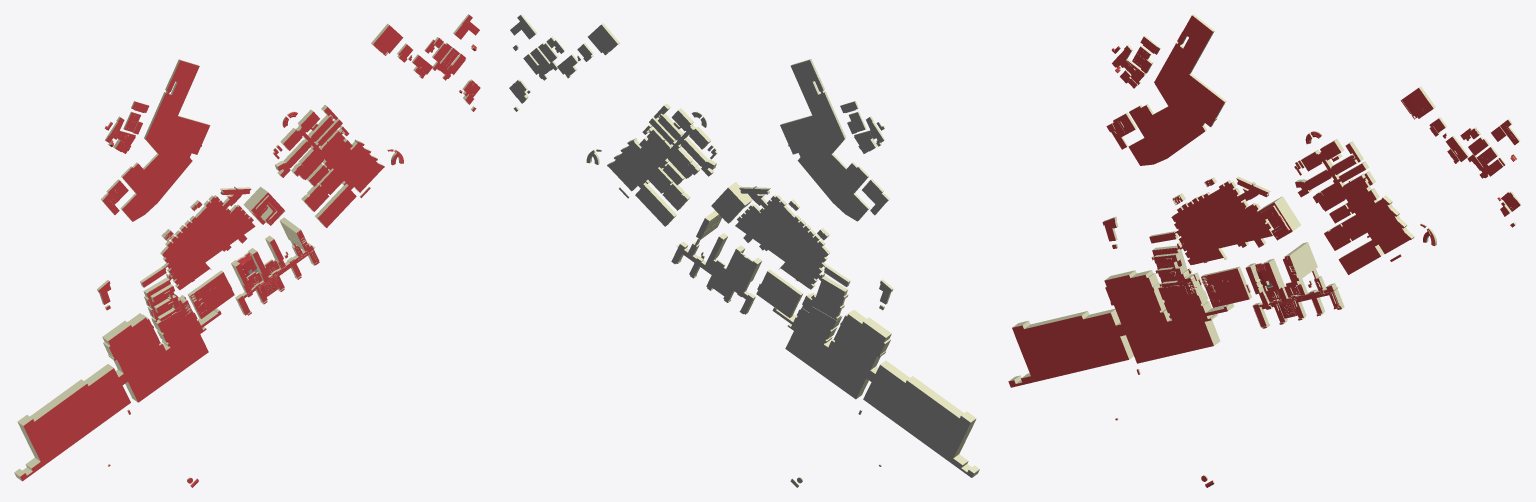
3 views of the same model, side by side, from view 1: azimuth 30°, elevation 25°; view 2: azimuth 150°, elevation 25°; view 3: azimuth 330°, elevation 25° (orthographic). The views are drawn at different scales.
Parts seen in each view (by area): view 1: NL.IMBAG.Pand.0861100000371444-8, NL.IMBAG.Pand.0861100000364265-35, NL.IMBAG.Pand.0861100000370693-19, NL.IMBAG.Pand.0861100000375466-27, NL.IMBAG.Pand.0861100000371564-9, NL.IMBAG.Pand.0861100000371443-6, NL.IMBAG.Pand.0861100000422323-5, NL.IMBAG.Pand.0861100000428609-29, NL.IMBAG.Pand.0861100000425672-36; view 2: NL.IMBAG.Pand.0861100000371444-8, NL.IMBAG.Pand.0861100000364265-35, NL.IMBAG.Pand.0861100000370693-19, NL.IMBAG.Pand.0861100000375466-27, NL.IMBAG.Pand.0861100000371564-9, NL.IMBAG.Pand.0861100000422323-5, NL.IMBAG.Pand.0861100000371443-6, NL.IMBAG.Pand.0861100000428609-29, NL.IMBAG.Pand.0861100000425672-36; view 3: NL.IMBAG.Pand.0861100000371444-8, NL.IMBAG.Pand.0861100000364265-35, NL.IMBAG.Pand.0861100000370693-19, NL.IMBAG.Pand.0861100000375466-27, NL.IMBAG.Pand.0861100000371564-9, NL.IMBAG.Pand.0861100000422323-5, NL.IMBAG.Pand.0861100000371443-6, NL.IMBAG.Pand.0861100000428609-29, NL.IMBAG.Pand.0861100000374406-24, NL.IMBAG.Pand.0861100000425672-36, NL.IMBAG.Pand.0861100000369203-20.
Boxes of the visible parts, x1,y1,x2,y2 form: NL.IMBAG.Pand.0861100000371444-8: [14, 308, 221, 481]; NL.IMBAG.Pand.0861100000364265-35: [275, 105, 384, 227]; NL.IMBAG.Pand.0861100000370693-19: [120, 59, 210, 221]; NL.IMBAG.Pand.0861100000375466-27: [140, 186, 255, 289]; NL.IMBAG.Pand.0861100000371564-9: [231, 239, 319, 315]; NL.IMBAG.Pand.0861100000371443-6: [143, 273, 192, 322]; NL.IMBAG.Pand.0861100000422323-5: [189, 270, 234, 318]; NL.IMBAG.Pand.0861100000428609-29: [243, 186, 284, 225]; NL.IMBAG.Pand.0861100000425672-36: [371, 23, 403, 55]; NL.IMBAG.Pand.0861100000371444-8: [772, 306, 979, 477]; NL.IMBAG.Pand.0861100000364265-35: [607, 103, 716, 226]; NL.IMBAG.Pand.0861100000370693-19: [780, 59, 869, 221]; NL.IMBAG.Pand.0861100000375466-27: [735, 186, 850, 289]; NL.IMBAG.Pand.0861100000371564-9: [671, 236, 761, 314]; NL.IMBAG.Pand.0861100000422323-5: [756, 269, 801, 317]; NL.IMBAG.Pand.0861100000371443-6: [802, 272, 848, 320]; NL.IMBAG.Pand.0861100000428609-29: [711, 182, 752, 223]; NL.IMBAG.Pand.0861100000425672-36: [588, 23, 619, 55]; NL.IMBAG.Pand.0861100000371444-8: [1008, 270, 1234, 387]; NL.IMBAG.Pand.0861100000364265-35: [1295, 139, 1414, 274]; NL.IMBAG.Pand.0861100000370693-19: [1128, 14, 1226, 165]; NL.IMBAG.Pand.0861100000375466-27: [1149, 176, 1273, 264]; NL.IMBAG.Pand.0861100000371564-9: [1245, 258, 1344, 328]; NL.IMBAG.Pand.0861100000422323-5: [1202, 266, 1251, 307]; NL.IMBAG.Pand.0861100000371443-6: [1151, 242, 1202, 293]; NL.IMBAG.Pand.0861100000428609-29: [1256, 196, 1300, 240]; NL.IMBAG.Pand.0861100000374406-24: [1284, 242, 1317, 281]; NL.IMBAG.Pand.0861100000425672-36: [1400, 86, 1435, 119]; NL.IMBAG.Pand.0861100000369203-20: [1106, 112, 1137, 149].
Bounding box in the file's own units: 1251 × 1108 × 84.
